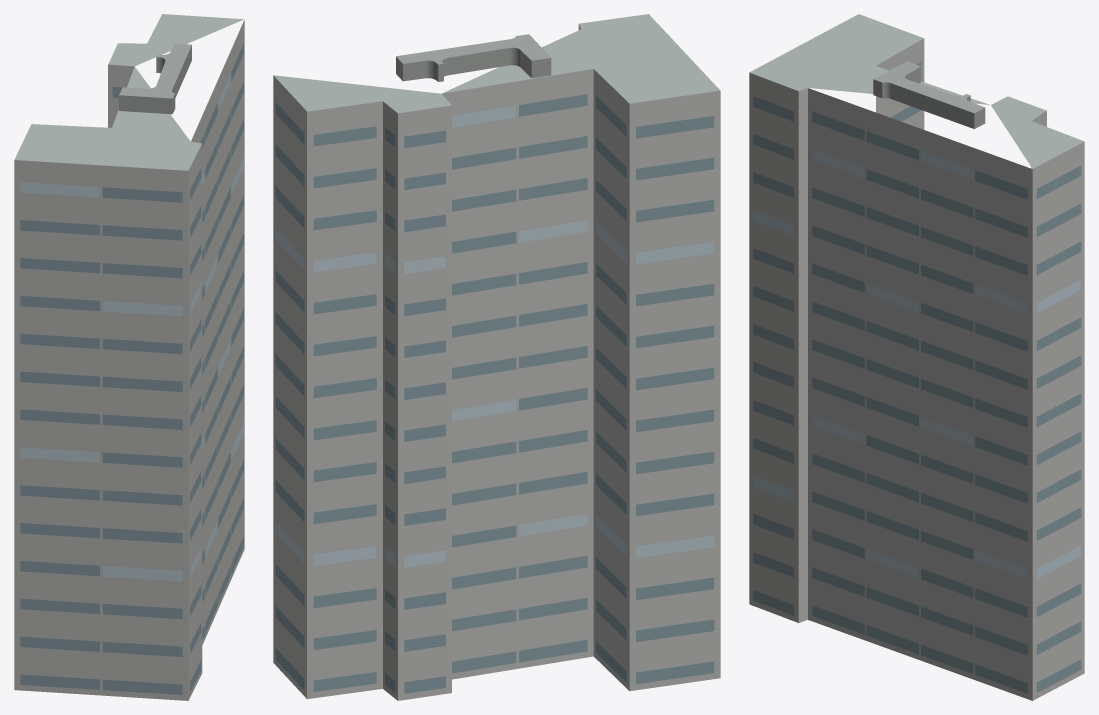
Rendered from fallback-godeok-central-ipark-512.glb.
The picture shows the model from 3 angles, left to right: view 1: azimuth 30°, elevation 25°; view 2: azimuth 150°, elevation 25°; view 3: azimuth 270°, elevation 25°; orthographic projection. The views are drawn at different scales.
Visible parts, largest first — view 1: fallback-godeok-central-ipark-512; view 2: fallback-godeok-central-ipark-512; view 3: fallback-godeok-central-ipark-512.
Boxes of the visible parts, x1,y1,x2,y2 form: fallback-godeok-central-ipark-512: (14, 14, 244, 700); fallback-godeok-central-ipark-512: (273, 14, 720, 700); fallback-godeok-central-ipark-512: (749, 14, 1084, 700).
Size of the model in its own units: 50.41 by 83 by 46.1.
